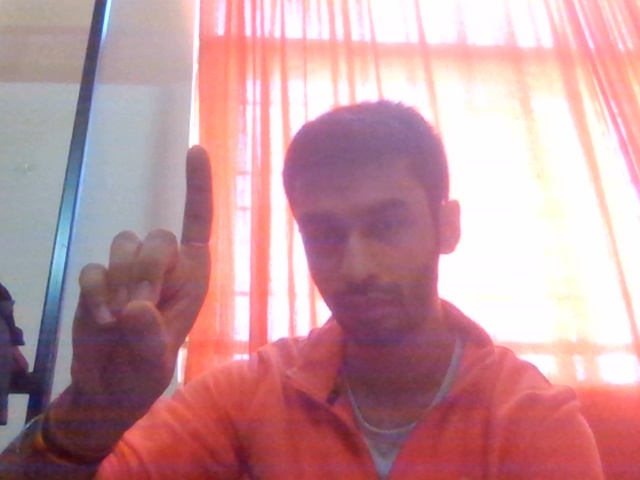D: (58, 143, 241, 438)
